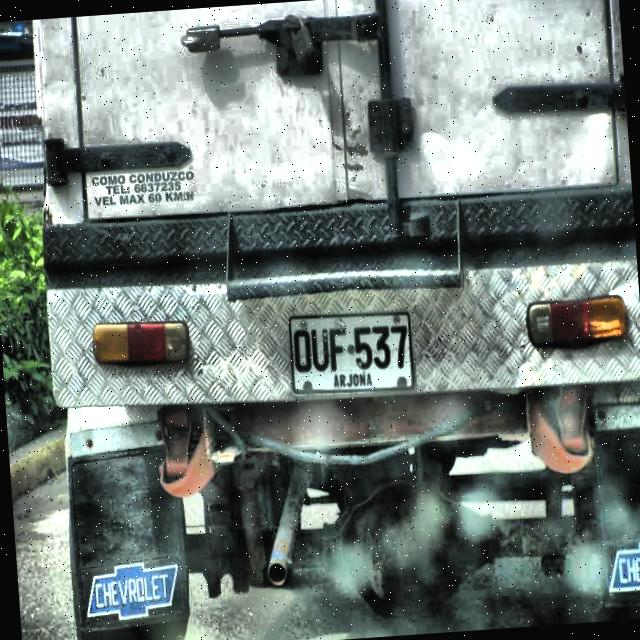3: (371, 325, 392, 371)
5: (352, 324, 373, 370)
7: (388, 324, 409, 369)
F: (328, 326, 350, 374)
O: (292, 328, 312, 372)
U: (310, 326, 330, 374)
